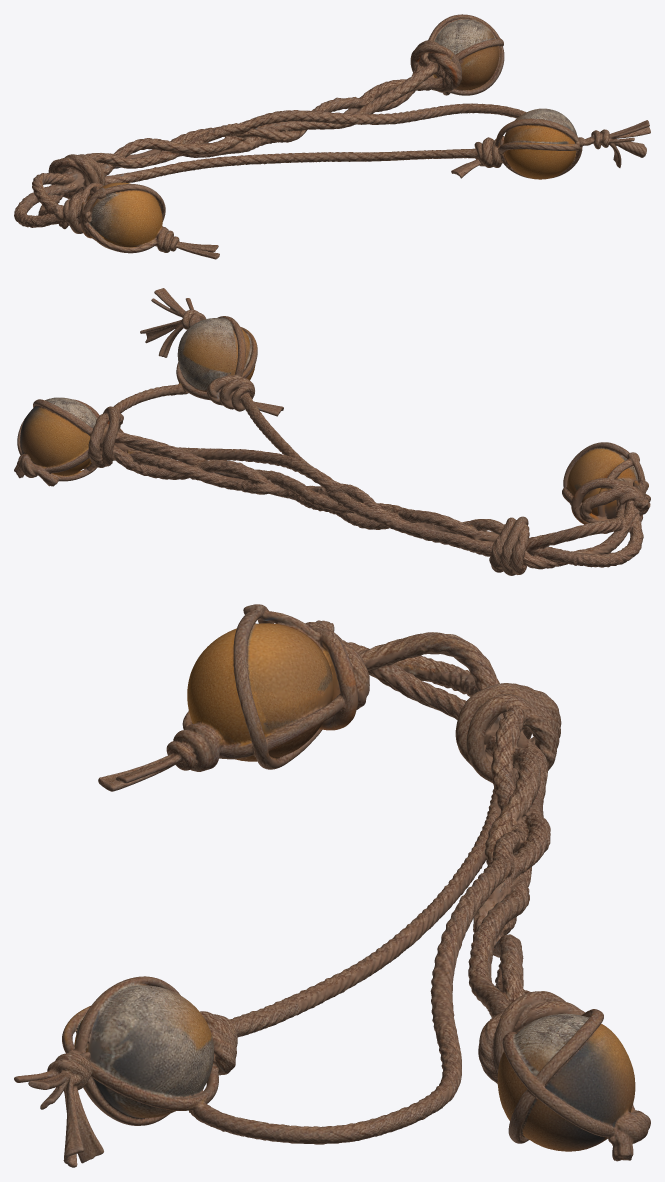
File: Bola.glb
3 views of the same model, one above another, from view 1: azimuth 30°, elevation 25°; view 2: azimuth 150°, elevation 25°; view 3: azimuth 270°, elevation 25° (orthographic). The views are drawn at different scales.
Bounding box in the file's own units: 1.9 × 0.2411 × 1.01.
Materials: 1 (1 with a texture image).
